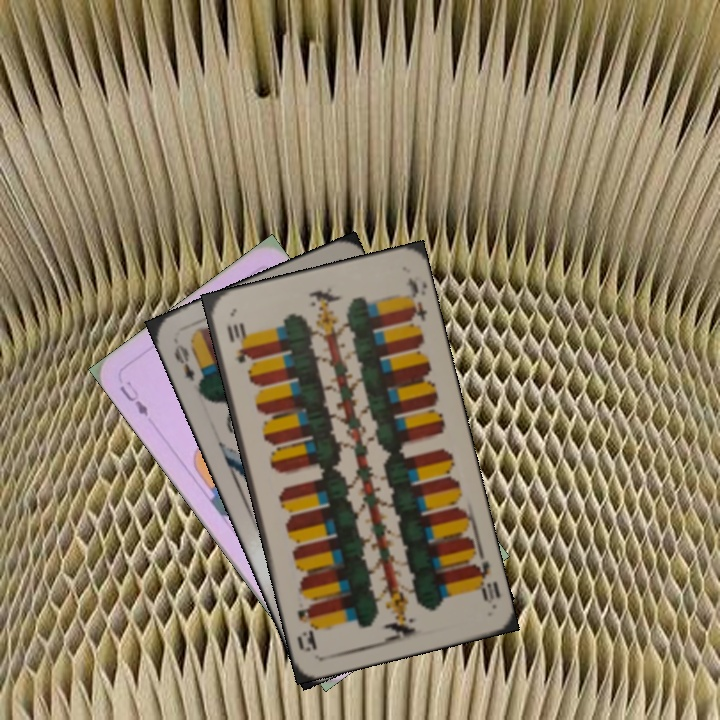E10: (466, 550, 502, 609), (222, 320, 251, 366)
EO: (169, 340, 198, 385)
EU: (115, 377, 152, 420)
